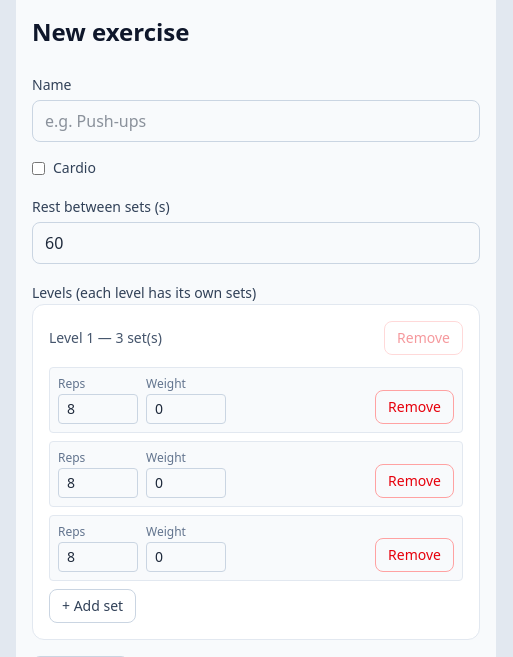
Scenario: ExerciseForm › shows name error after blur when name is too short
The width and height of the screenshot is (513, 657).
In the field labelled "Name": (256, 121) [32,100,480,142], type "A"
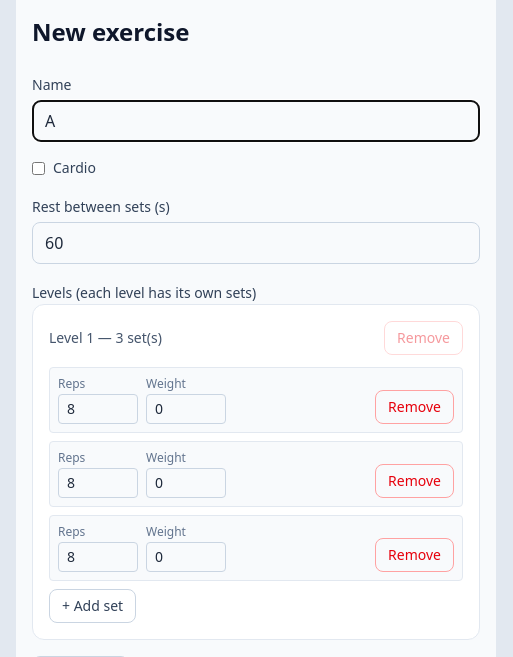
Press Tab
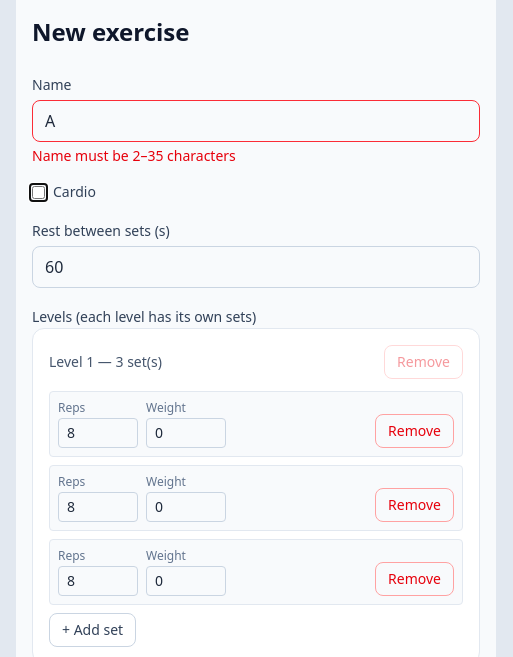
expect the message shows "2–35 characters": met, box [32,146,236,165]
